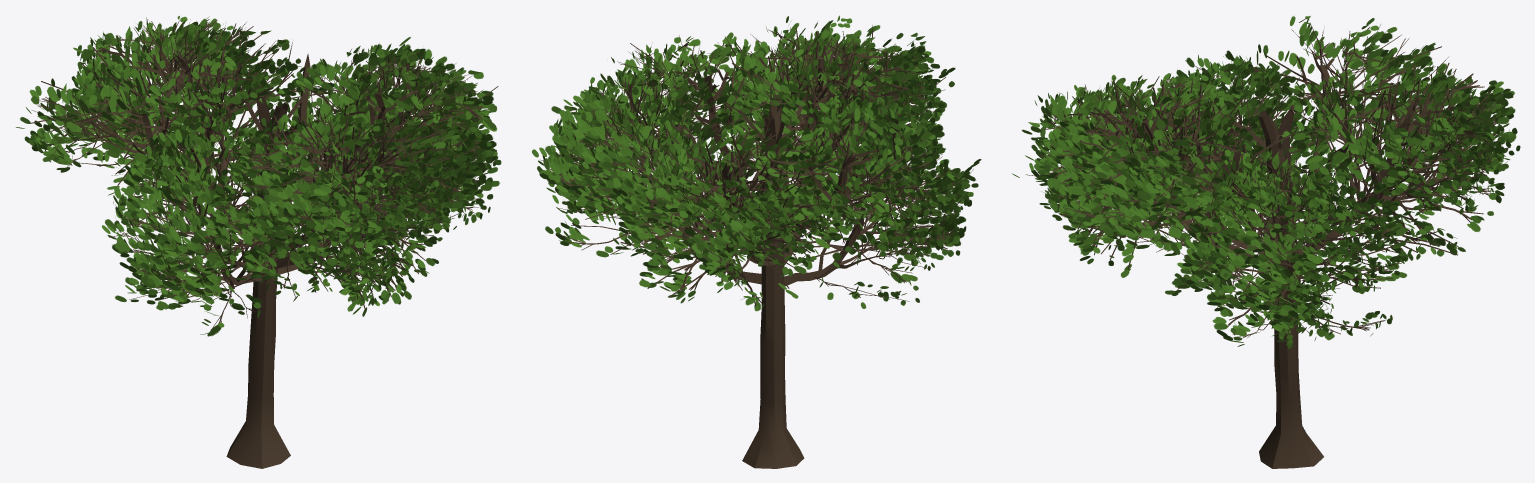
3 renders of one model, left to right at view 1: azimuth 30°, elevation 25°; view 2: azimuth 150°, elevation 25°; view 3: azimuth 270°, elevation 25°, orthographic. The views are drawn at different scales.
Parts seen in each view (by area): view 1: oak 01.001_trunk_Mat.001_0.110; view 2: oak 01.001_trunk_Mat.001_0.110; view 3: oak 01.001_trunk_Mat.001_0.110.
Boxes of the visible parts, x1,y1,x2,y2 form: oak 01.001_trunk_Mat.001_0.110: (16,16,501,468); oak 01.001_trunk_Mat.001_0.110: (531,15,981,468); oak 01.001_trunk_Mat.001_0.110: (1012,16,1520,468).
Size of the model in its own units: 6.95 by 5.54 by 6.92.
2 materials, 1 textured.
